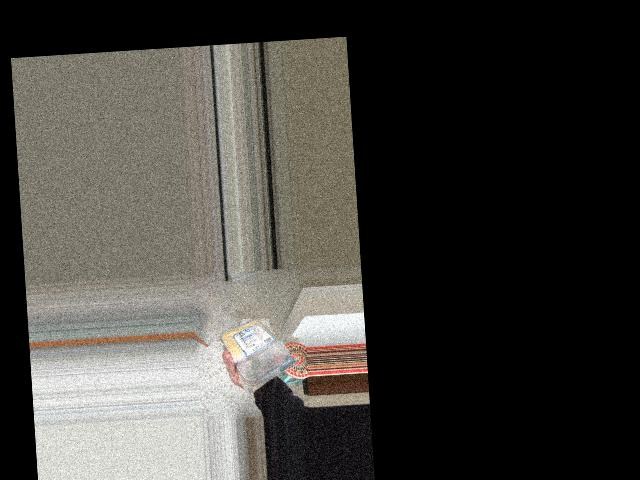cheese: (228, 310, 297, 389)
